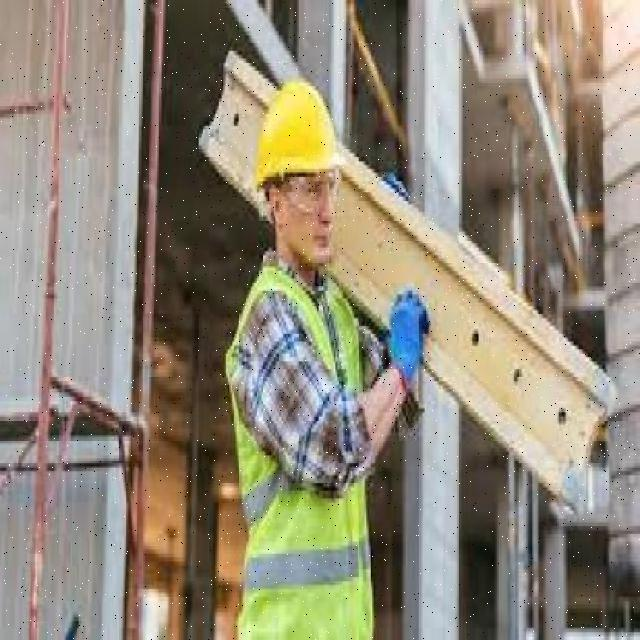Hard_hat: (251, 86, 343, 187)
Vest: (242, 286, 368, 640)
